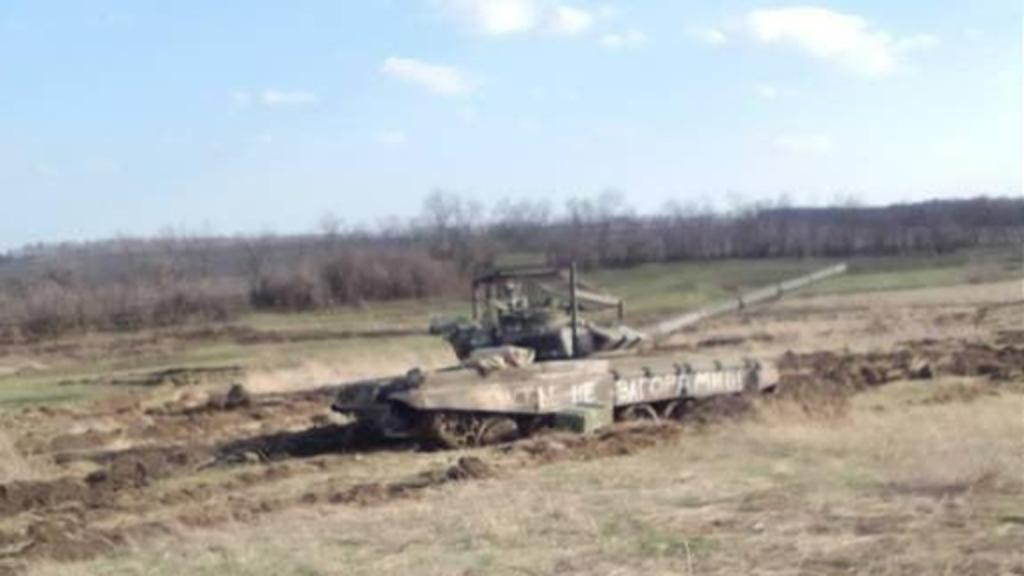TANK: (322, 254, 854, 474)
